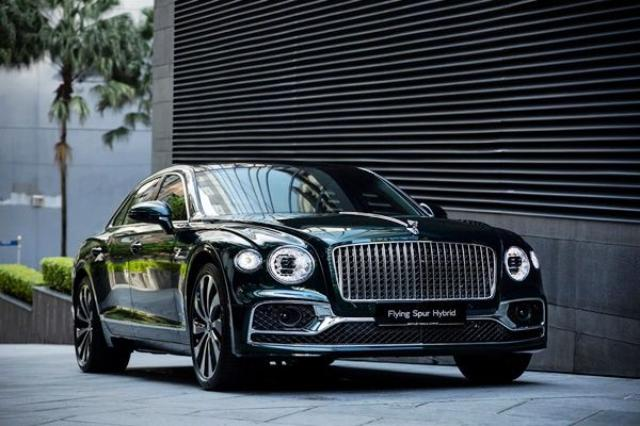bentley: (71, 162, 548, 392)
